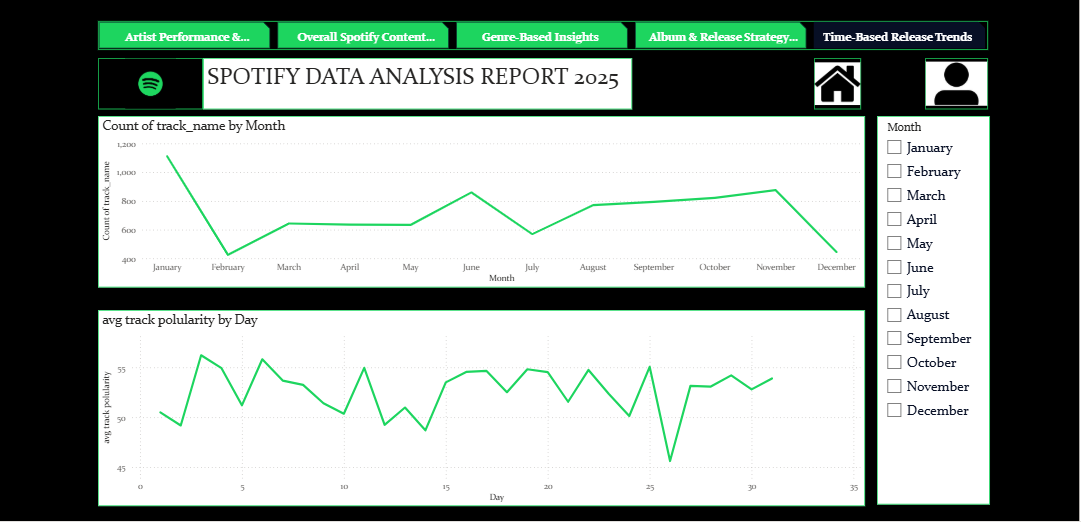

Layout of this report page (visuals, bound fields, positions):
{"tool":"powerbi","page":{"name":"Time-Based Release Trends","canvas":[1280,720],"ordinal":4},"visuals":[{"type":"lineChart","fields":{"Category":["spotify_data clean.album_release_date.Variation.Date Hierarchy.Month"],"Y":["CountNonNull(spotify_data clean.track_name)"]},"box":[30.7,160.7,1060.1,236.8],"z":0},{"type":"lineChart","fields":{"Category":["spotify_data clean.album_release_date.Variation.Date Hierarchy.Day"],"Y":["spotify_data clean.avg track polularity"]},"box":[30.7,428.2,1060.1,271.2],"z":1000},{"type":"slicer","fields":{"Values":["spotify_data clean.album_release_date.Variation.Date Hierarchy.Month"]},"box":[1107.4,160.5,156.4,536.5],"z":2000},{"type":"textbox","box":[175.6,79.6,592.8,71.4],"z":3000},{"type":"image","box":[30.2,79.6,145.5,71.4],"z":4000},{"type":"pageNavigator","box":[30.2,28.8,1229.5,39.8],"z":5000},{"type":"image","box":[1019.6,79.8,65,71.2],"z":6000},{"type":"image","box":[1173,79.8,87.1,71.2],"z":7000}]}

Visuals, with their boxes in screenshot pixels (x1, y1, x2, y2):
lineChart - spotify_data clean.album_release_date.Variation.Date Hierarchy.Month x CountNonNull(spotify_data clean.track_name): (106, 115, 863, 284)
lineChart - spotify_data clean.album_release_date.Variation.Date Hierarchy.Day x spotify_data clean.avg track polularity: (106, 305, 863, 499)
slicer - spotify_data clean.album_release_date.Variation.Date Hierarchy.Month: (874, 114, 986, 497)
textbox: (210, 57, 633, 108)
image: (106, 57, 210, 108)
pageNavigator: (106, 21, 983, 49)
image: (812, 57, 858, 108)
image: (921, 57, 983, 108)
